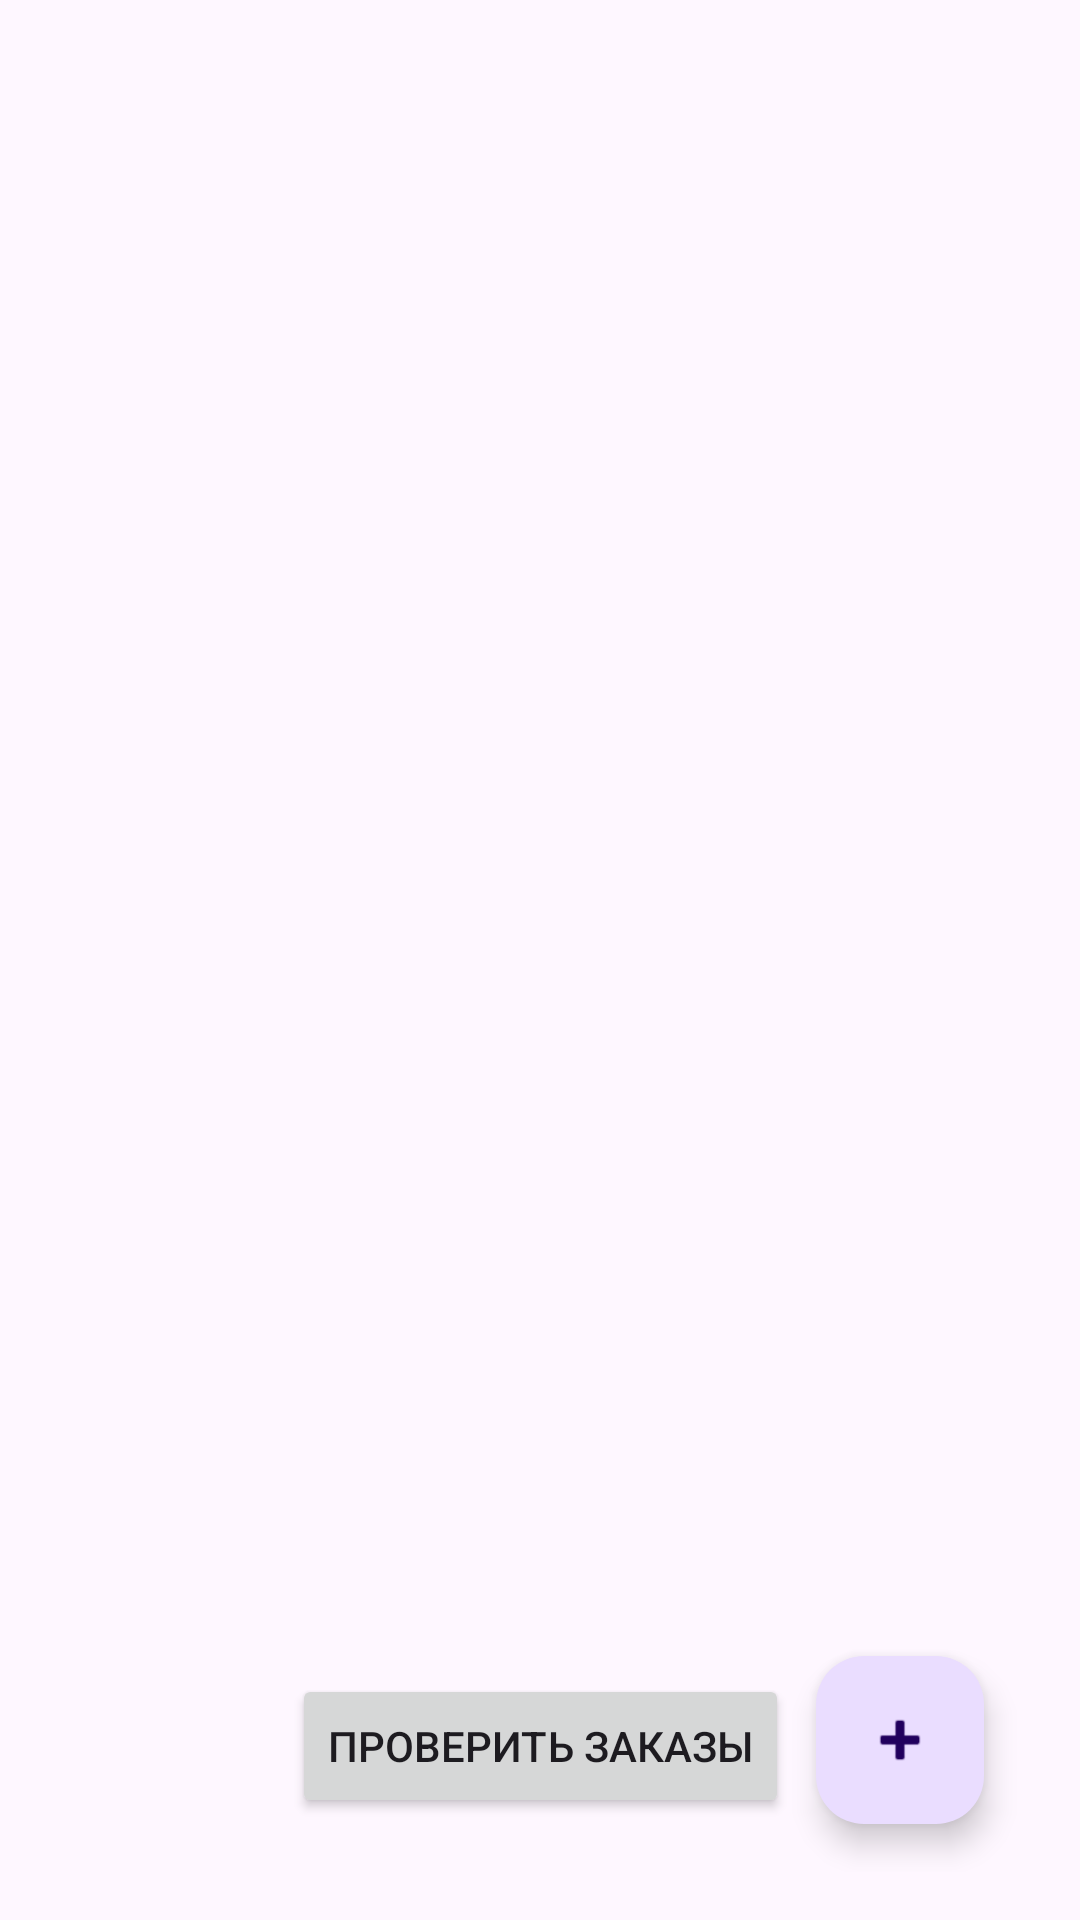

Screen size 1080*1920. Icon name, then its box in pixels as bbox=(x1, y1, x2, y2):
Добавить заказ: bbox=(816, 1656, 984, 1824)
